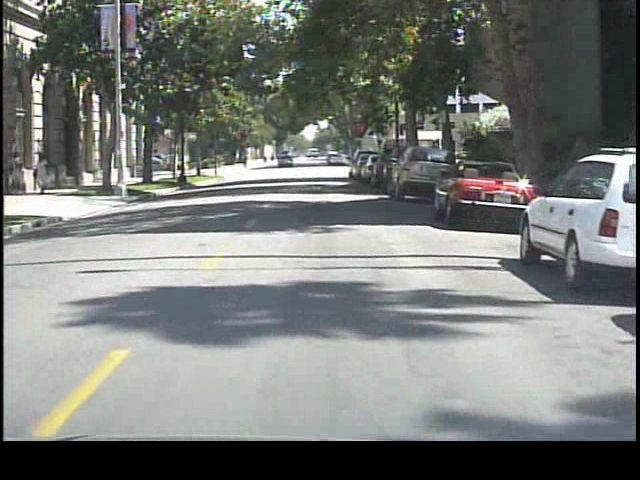person: (30, 152, 56, 196), (9, 147, 29, 194)
